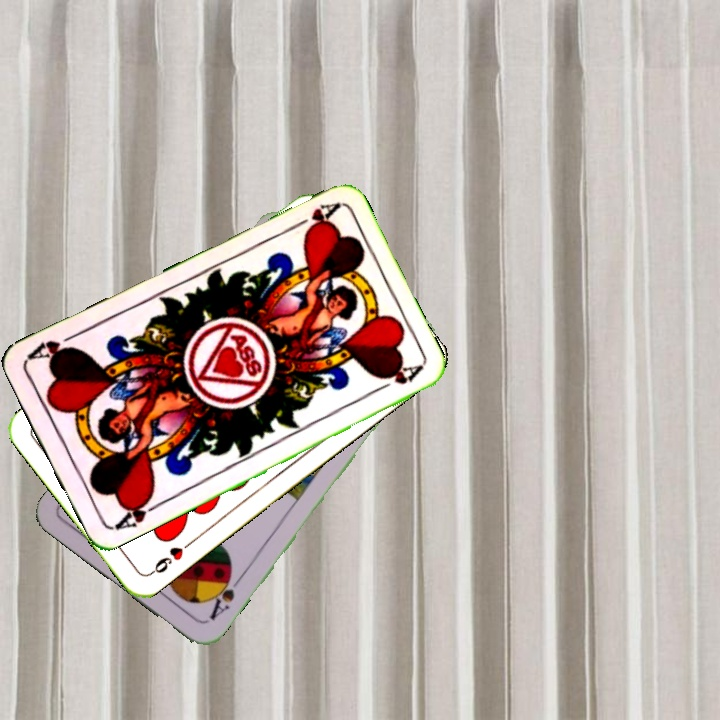H9: (145, 537, 196, 578)
HA: (110, 490, 164, 533), (285, 198, 341, 237)
SA: (204, 567, 244, 623)
